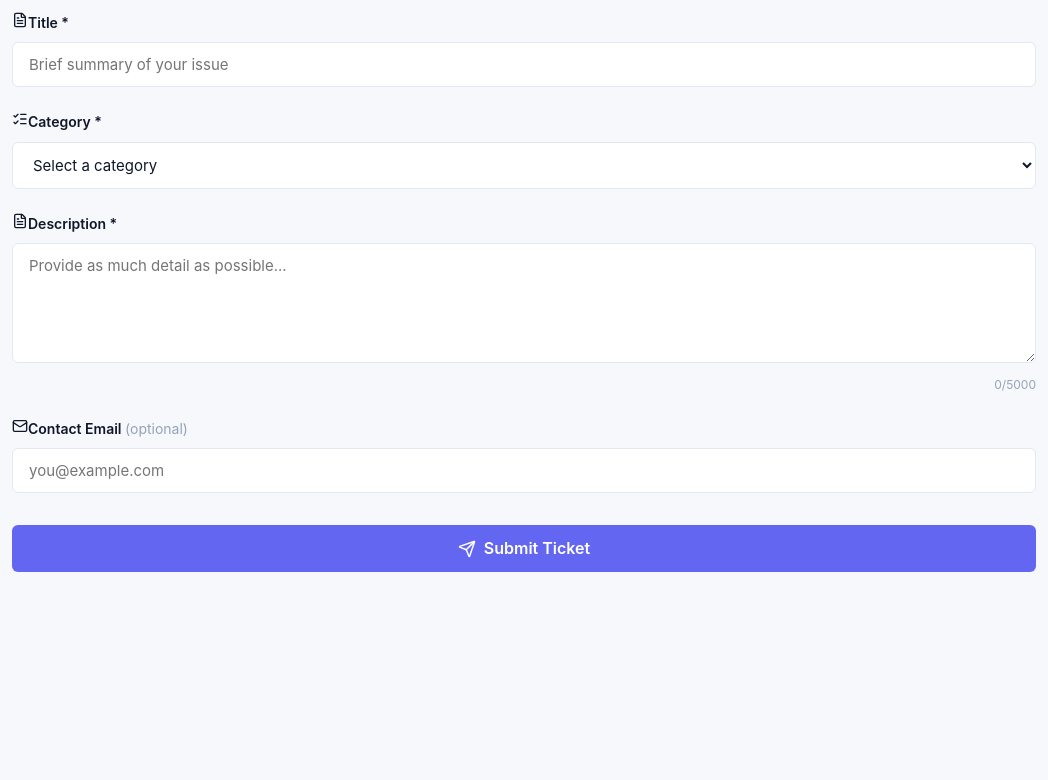
TicketForm Component › displays validation errors for empty required fields on submit
This screenshot has width=1048, height=780.
Click the button "Submit Ticket": click(524, 548) x1=12 y1=525 x2=1036 y2=572
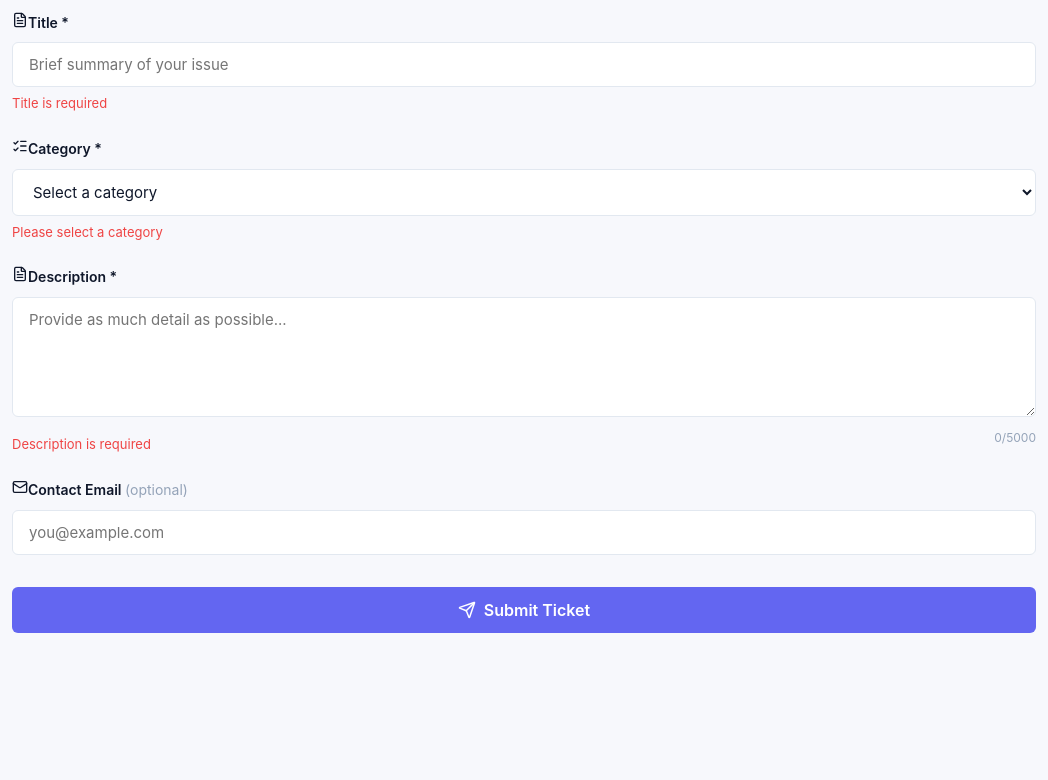
Expected: the text "Title is required" is shown, x1=12 y1=95 x2=107 y2=111
Expected: the text "Description is required" is shown, x1=12 y1=434 x2=151 y2=455
Expected: the text "Please select a category" is shown, x1=12 y1=224 x2=163 y2=240
